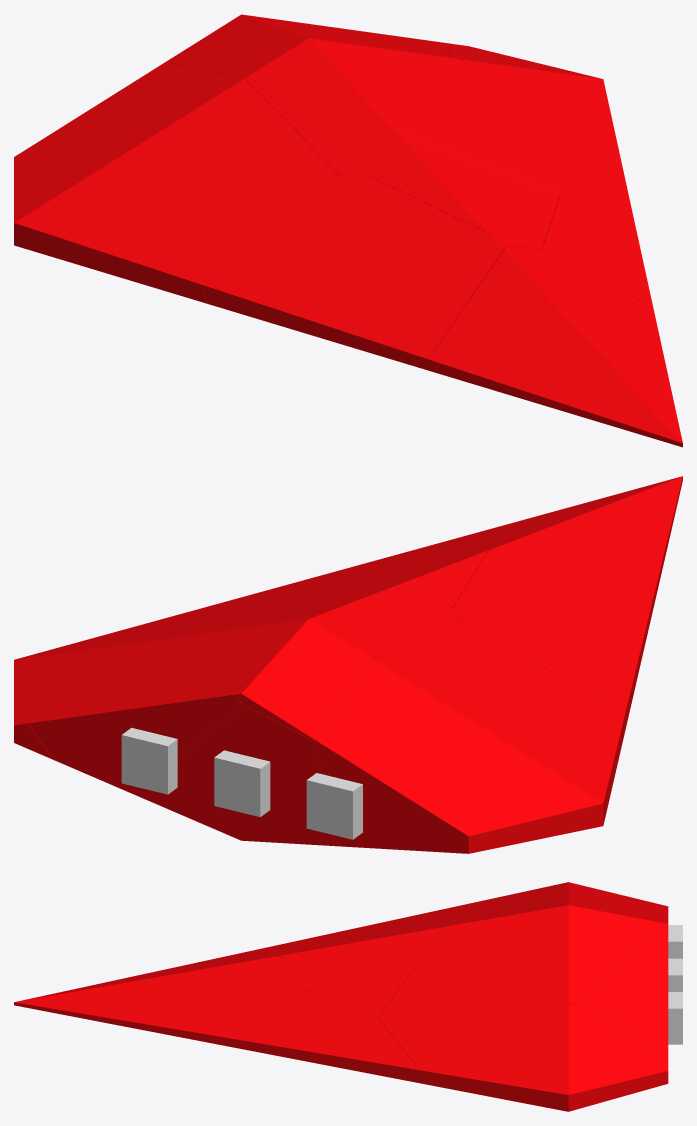
The model's file is MotherShip_break.fbx.
The picture shows the model from 3 angles, top to bottom: view 1: azimuth 30°, elevation 25°; view 2: azimuth 150°, elevation 25°; view 3: azimuth 270°, elevation 25°; orthographic projection. The views are drawn at different scales.
Parts seen in each view (by area): view 1: Plane_cell.007, Plane_cell.005, Plane_cell.002, Plane_cell.001, Plane_cell, Plane_cell.008, Plane_cell.003, Plane_cell.006; view 2: Plane_cell.007, Plane_cell.005, Plane_cell.002, Plane_cell.006, Plane_cell.001, Cube, Plane_cell.008, Plane_cell, Plane_cell.003, Plane_cell.004; view 3: Plane_cell.005, Plane_cell.008, Plane_cell.001, Plane_cell.003, Plane_cell, Plane_cell.006, Plane_cell.007, Plane_cell.002, Cube.
Part boxes in pixels (left/top/right/bottom): Plane_cell.007: left=14, top=62, right=338, bottom=303; Plane_cell.005: left=167, top=16, right=615, bottom=194; Plane_cell.002: left=201, top=175, right=506, bottom=368; Plane_cell.001: left=423, top=246, right=682, bottom=447; Plane_cell: left=367, top=130, right=560, bottom=248; Plane_cell.008: left=446, top=44, right=624, bottom=179; Plane_cell.003: left=542, top=179, right=652, bottom=306; Plane_cell.006: left=248, top=15, right=454, bottom=54; Plane_cell.007: left=317, top=622, right=626, bottom=853; Plane_cell.005: left=139, top=586, right=460, bottom=845; Plane_cell.002: left=453, top=544, right=652, bottom=725; Plane_cell.006: left=28, top=651, right=245, bottom=796; Plane_cell.001: left=433, top=476, right=682, bottom=613; Cube: left=121, top=727, right=362, bottom=839; Plane_cell.008: left=14, top=607, right=209, bottom=759; Plane_cell: left=314, top=547, right=491, bottom=607; Plane_cell.003: left=200, top=545, right=452, bottom=608; Plane_cell.004: left=234, top=687, right=317, bottom=742; Plane_cell.005: left=378, top=900, right=666, bottom=1062; Plane_cell.008: left=414, top=1003, right=668, bottom=1111; Plane_cell.001: left=14, top=956, right=288, bottom=1045; Plane_cell.003: left=221, top=983, right=415, bottom=1082; Plane_cell: left=286, top=927, right=442, bottom=1017; Plane_cell.006: left=584, top=923, right=668, bottom=1061; Plane_cell.007: left=414, top=882, right=668, bottom=923; Plane_cell.002: left=225, top=915, right=432, bottom=959; Cube: left=668, top=925, right=682, bottom=1044.
Bounding box in the file's own units: 507 × 156 × 674.
